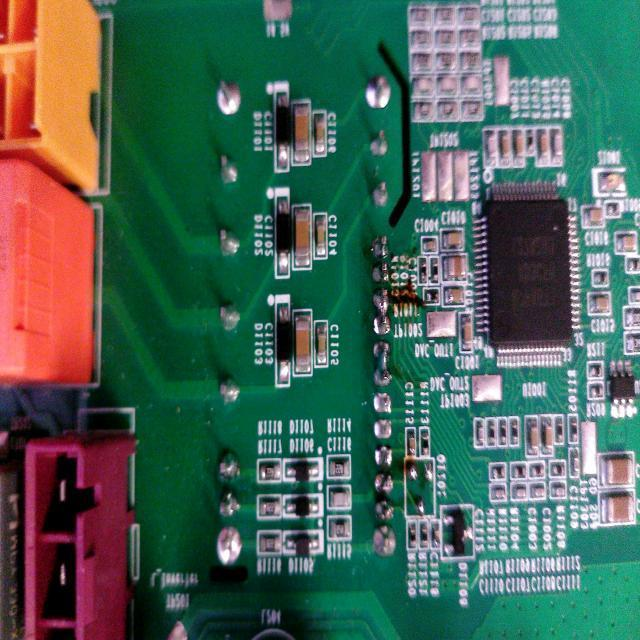Soldering shorted: (372, 338, 393, 388), (372, 288, 393, 338)
